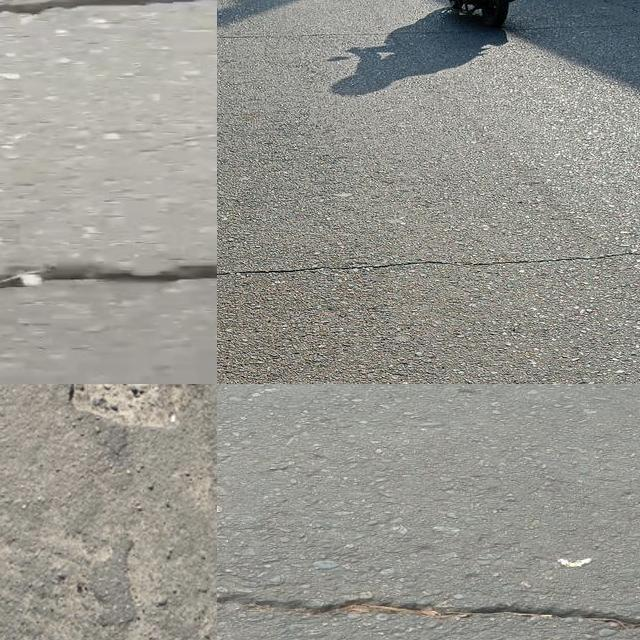Lubang: (69, 384, 205, 434)
Melintang: (217, 583, 640, 640), (217, 240, 640, 287), (0, 249, 217, 298), (0, 0, 217, 33)
